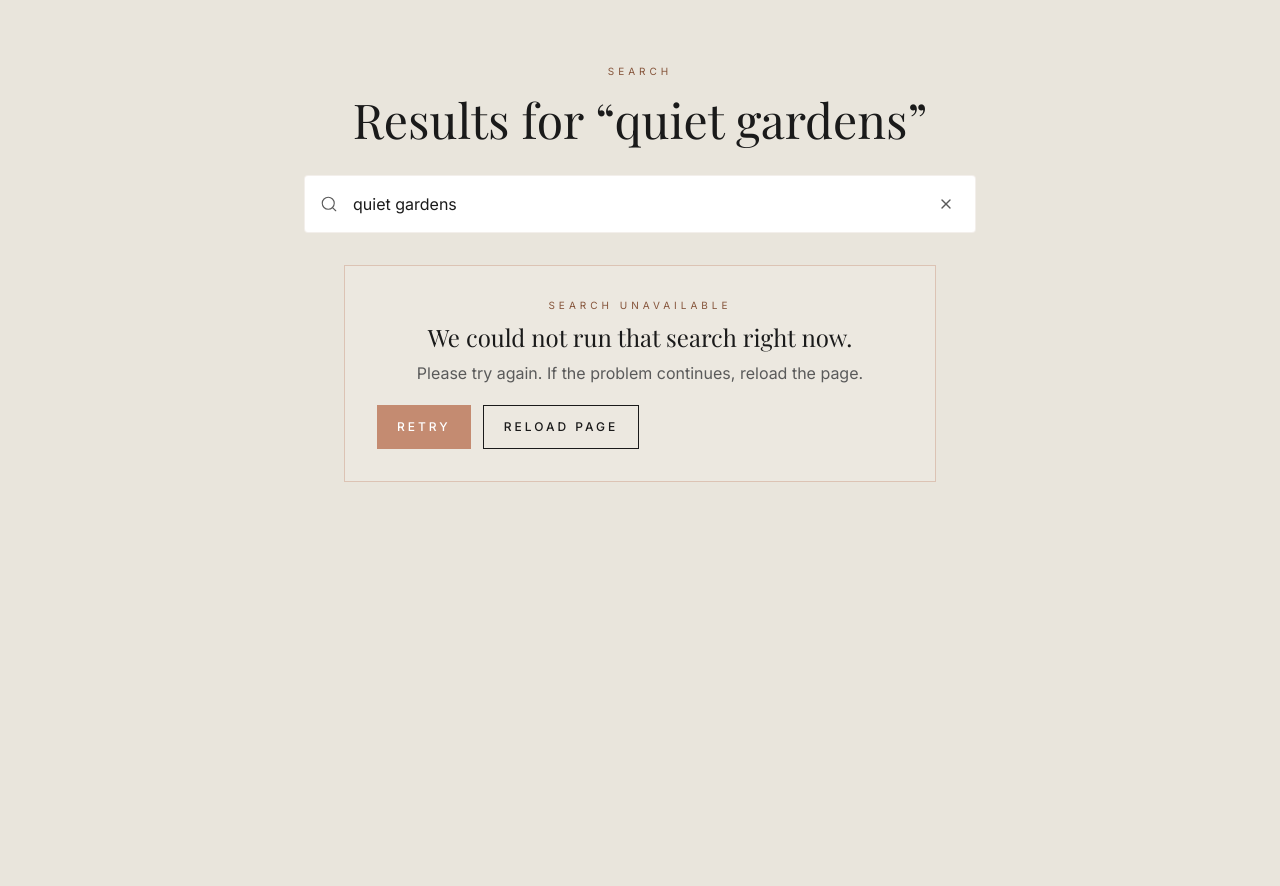
search loading and recovery › shows query errors and retries into the empty-results state
Expected: the message shows "We could not run that search right now.", [428,321,852,353]
Step 1. Click the button "Retry" → x=424, y=427, box [377,405,471,449]
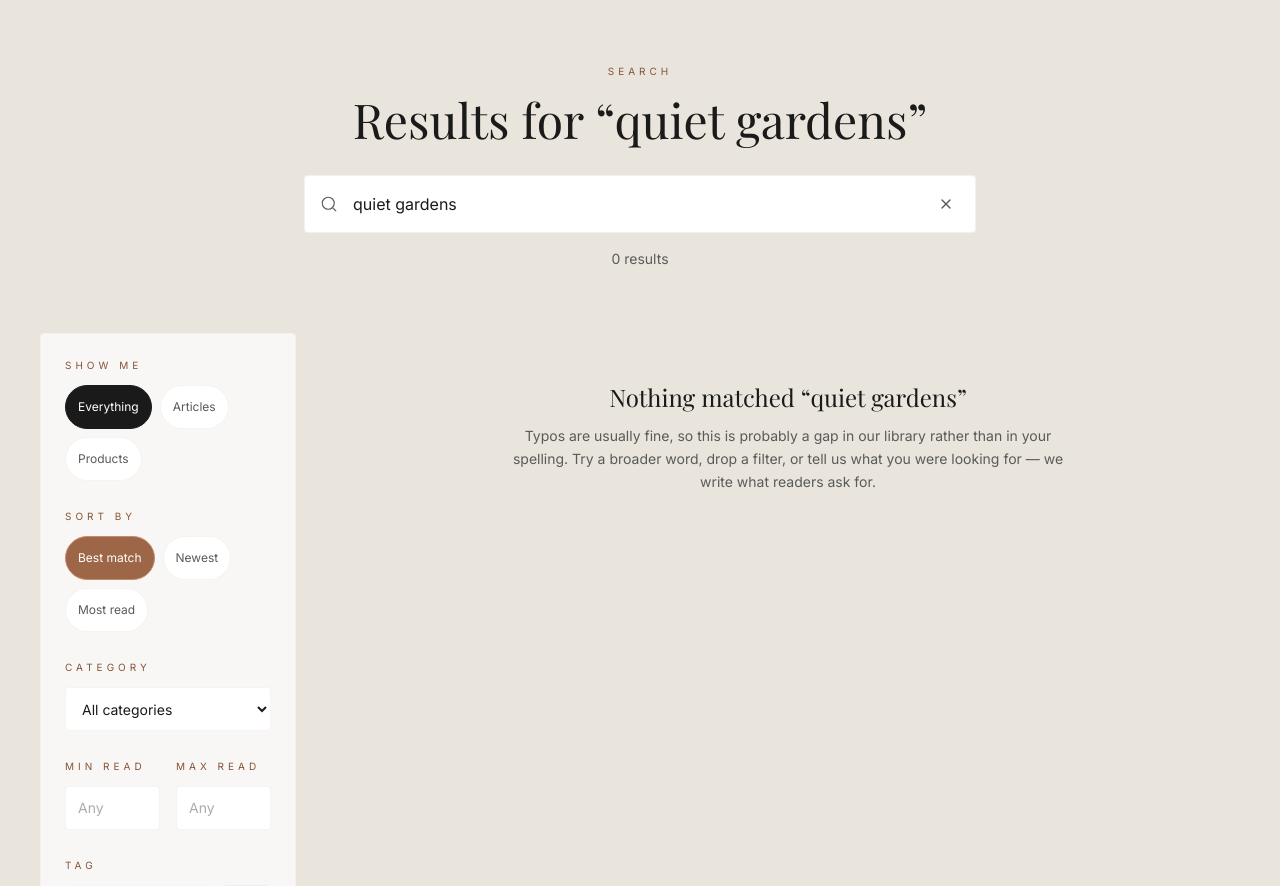
Expected: the message "Search unavailable We could not run that search right now. Please try again. If" is gone
Expected: the text "Nothing matched" is shown, [609,381,810,413]
